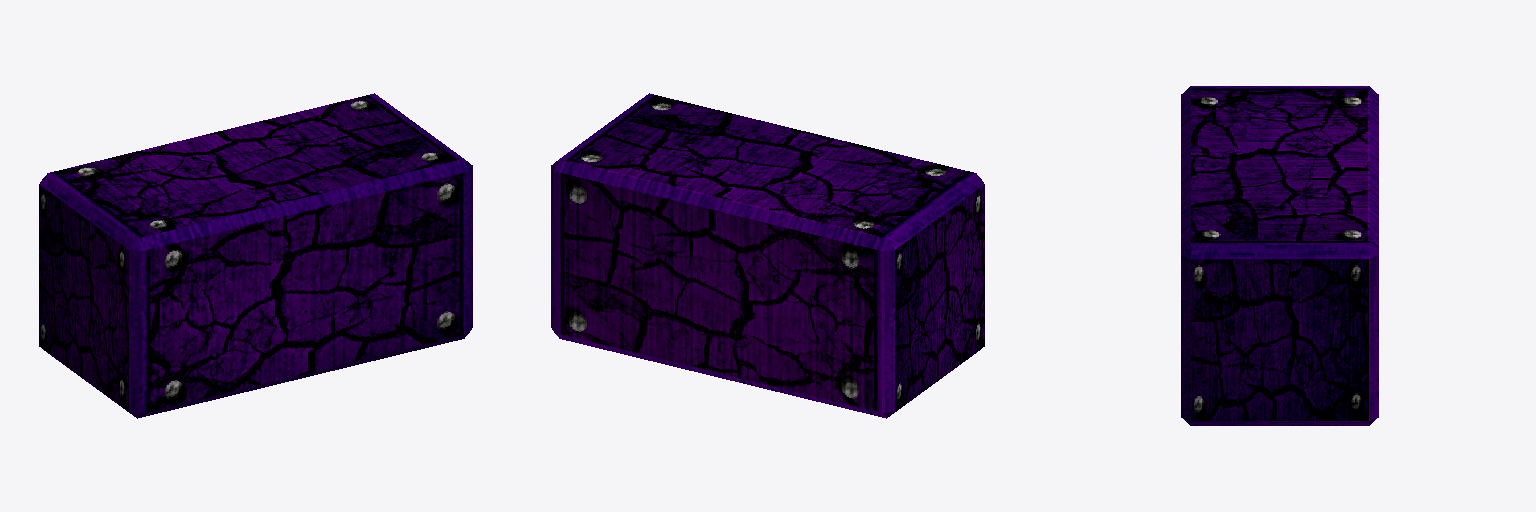
3 views of the same model, side by side, from view 1: azimuth 30°, elevation 25°; view 2: azimuth 150°, elevation 25°; view 3: azimuth 270°, elevation 25° (orthographic).
Parts seen in each view (by area): view 1: default; view 2: default; view 3: default.
Boxes of the visible parts, x1=… form: default: x1=39, y1=93, x2=472, y2=418; default: x1=551, y1=93, x2=984, y2=418; default: x1=1181, y1=86, x2=1378, y2=425.
Size of the model in its own units: 2 by 1 by 1.
1 materials, 1 textured.